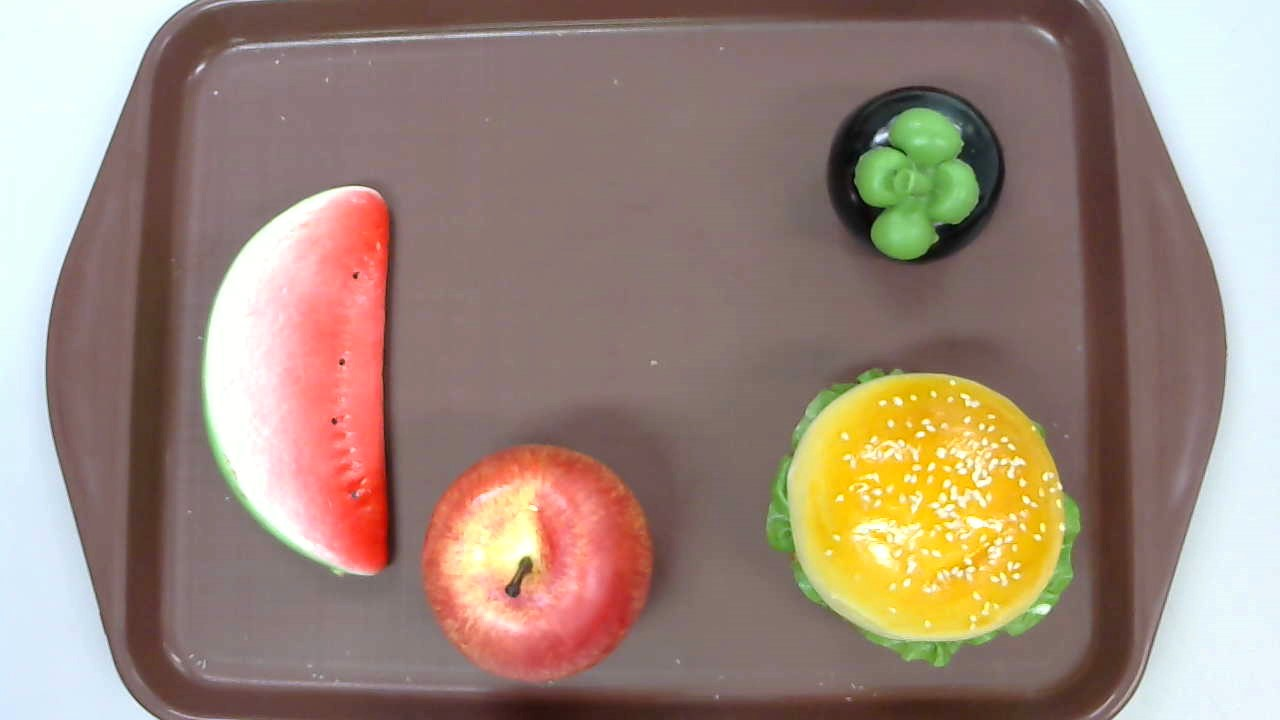hamburger: (763, 366, 1081, 669)
mangosteen: (824, 85, 1008, 266)
red apple: (419, 445, 652, 679)
water melon: (201, 185, 389, 578)
